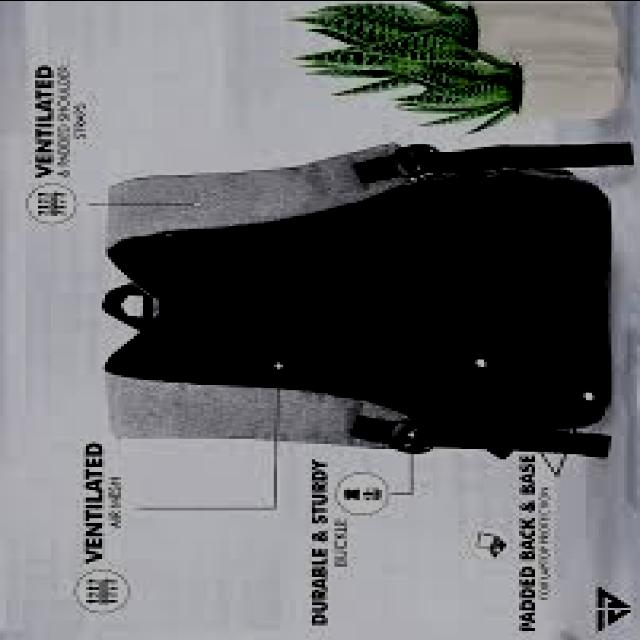backpack: (100, 145, 632, 460)
